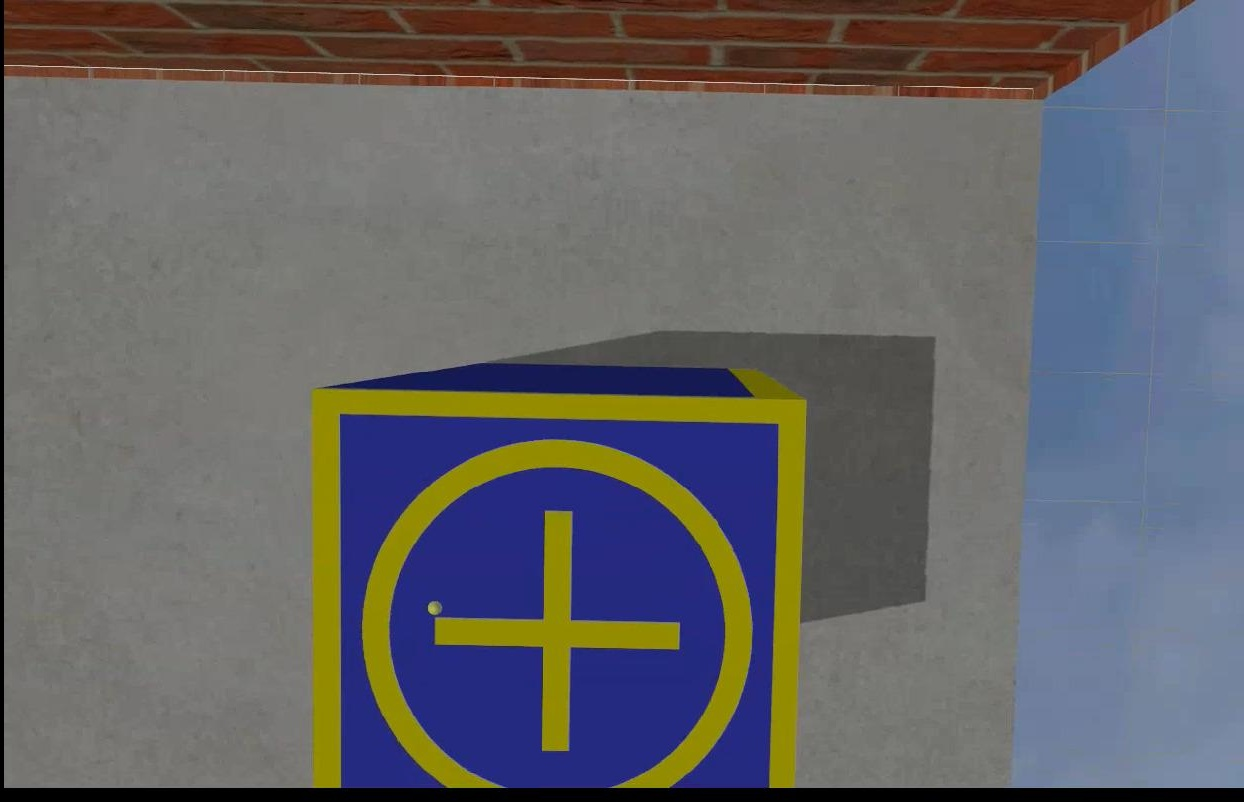small_base: (314, 385, 807, 788)
